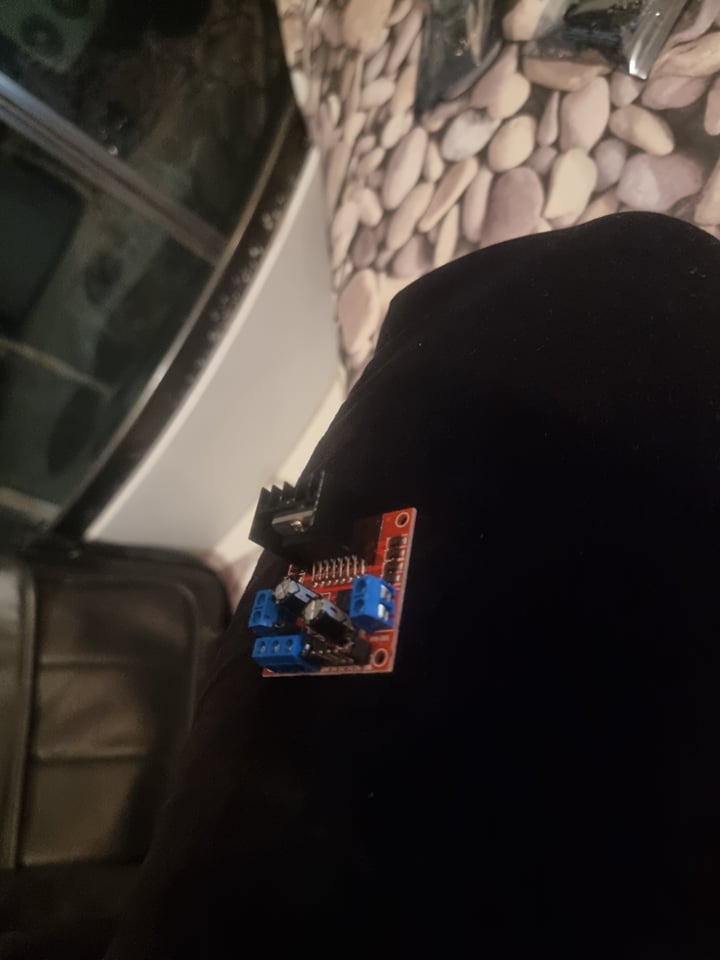MOTOR: (243, 470, 419, 679)
